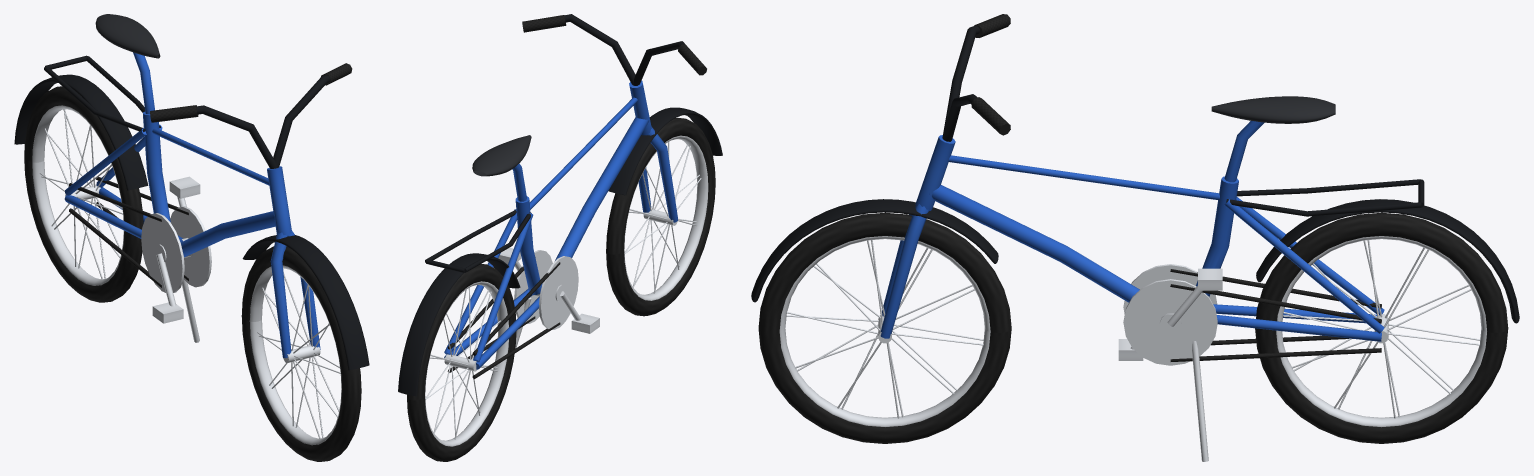
The model's file is basikal_chopper_biru.glb.
3 renders of one model, left to right at view 1: azimuth 30°, elevation 25°; view 2: azimuth 150°, elevation 25°; view 3: azimuth 270°, elevation 25°, orthographic. The views are drawn at different scales.
Parts seen in each view (by area): view 1: Basikal_Chopper_Biru; view 2: Basikal_Chopper_Biru; view 3: Basikal_Chopper_Biru.
Boxes of the visible parts, x1,y1,x2,y2 form: Basikal_Chopper_Biru: [14, 14, 369, 461]; Basikal_Chopper_Biru: [398, 14, 722, 461]; Basikal_Chopper_Biru: [751, 14, 1519, 461].
Bounding box in the file's own units: 0.5354 × 0.8493 × 1.55.
Materials: 1 (1 with a texture image).
